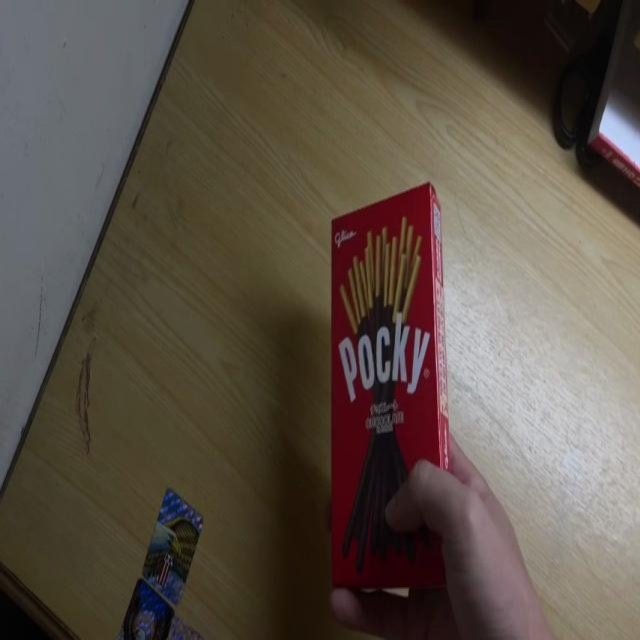Pocky: (328, 176, 448, 588)
